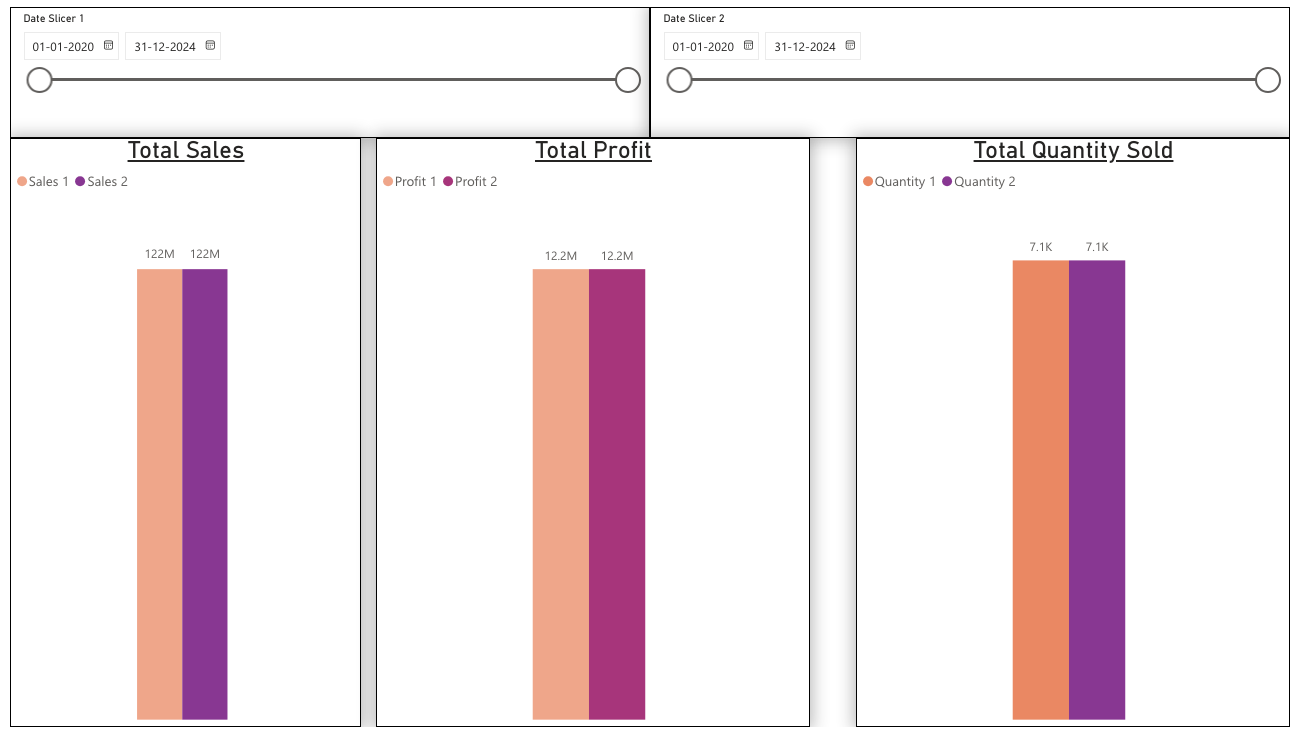

Layout of this report page (visuals, bound fields, positions):
{"tool":"powerbi","page":{"name":"Comparison sales / Profit / Quantity","canvas":[1280,720],"ordinal":2},"visuals":[{"type":"slicer","fields":{"Values":["Date Table 1.Date"]},"box":[0,59.9,639.5,130.8],"z":0},{"type":"slicer","fields":{"Values":["Date Table 2.Date"]},"box":[639.5,59.9,640.8,130.8],"z":1000},{"type":"lineClusteredColumnComboChart","title":"Total Sales ","fields":{"Y":["Sum(Fact Table.Net Sales)","Date Table 1.Sum Of Net Sales"]},"box":[0,190.8,351,529.5],"z":2000},{"type":"clusteredColumnChart","title":"Total Profit","fields":{"Y":["Sum(Fact Table.Profit)","Measures Table.Total profit"]},"box":[366.8,190.8,451.2,529.5],"z":3000},{"type":"clusteredColumnChart","title":"Total Quantity Sold","fields":{"Y":["Sum(Fact Table.Units Sold)","Measures Table.Quantity Sold"]},"box":[846.2,190.8,434.1,529.5],"z":4000},{"type":"shape","box":[0,0,1280.3,59.9],"z":5000}]}

Visuals, with their boxes in screenshot pixels (x1, y1, x2, y2), scaled from the page's 1280x720 canvas onto the 1298x729 screenshot:
slicer - Date Table 1.Date: BBox(0, 61, 648, 193)
slicer - Date Table 2.Date: BBox(648, 61, 1297, 193)
"Total Sales " lineClusteredColumnComboChart: BBox(0, 193, 356, 728)
"Total Profit" clusteredColumnChart: BBox(372, 193, 830, 728)
"Total Quantity Sold" clusteredColumnChart: BBox(858, 193, 1297, 728)
shape: BBox(0, 0, 1297, 61)
